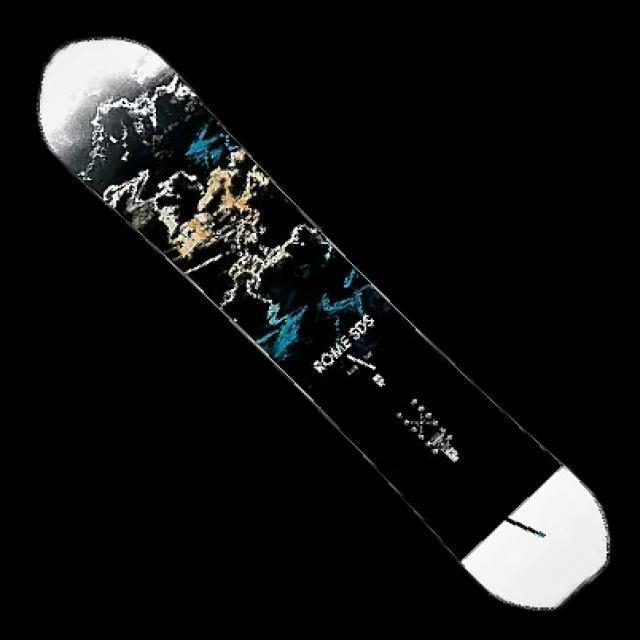Snowboard: (36, 34, 611, 611)
